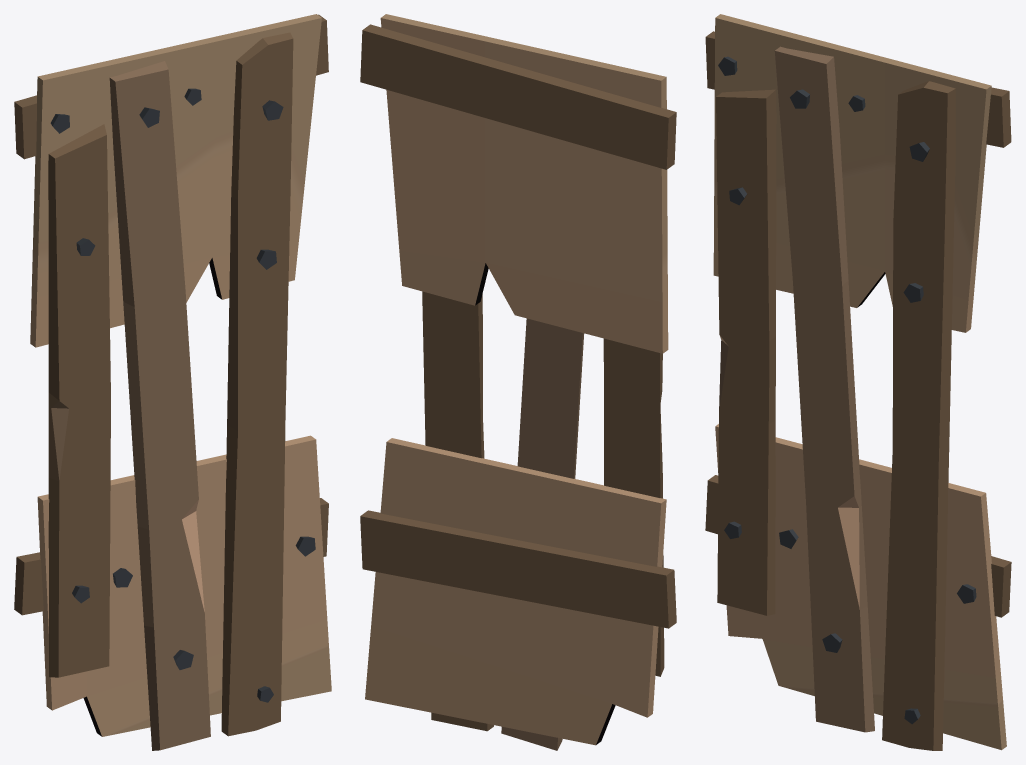
File: SM_Door_Baricade_C.gltf
The picture shows the model from 3 angles, left to right: view 1: azimuth 30°, elevation 25°; view 2: azimuth 150°, elevation 25°; view 3: azimuth 330°, elevation 25°; orthographic projection. The views are drawn at different scales.
Parts seen in each view (by area): view 1: SM_Door_Baricade_C; view 2: SM_Door_Baricade_C; view 3: SM_Door_Baricade_C.
Boxes of the visible parts, x1,y1,x2,y2 form: SM_Door_Baricade_C: (14,14,331,750); SM_Door_Baricade_C: (360,14,676,750); SM_Door_Baricade_C: (705,14,1011,750).
Bounding box in the file's own units: 0.9634 × 2.09 × 0.1339.
Materials: 1 (1 with a texture image).
